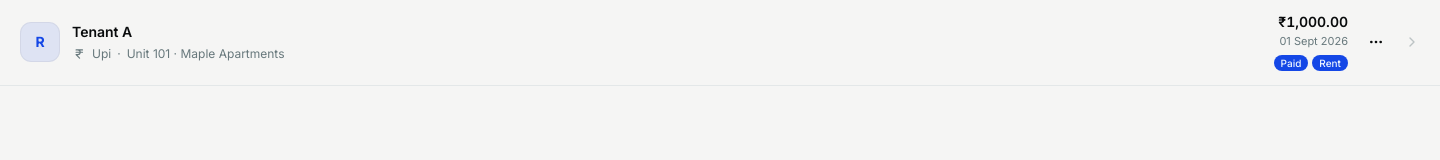
Test case: PaymentRow action states (H05) › offers Void Payment in the menu for an actionable payment
Click the button named "Payment actions" at x=1376, y=42, box [1360,26,1392,58]
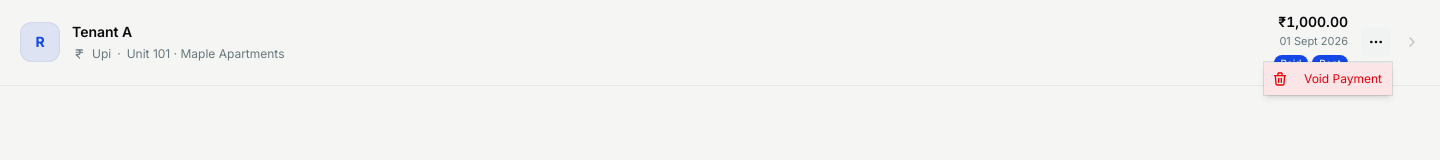
Expected: the menu item "Void Payment" is shown, [1264,63,1392,95]
